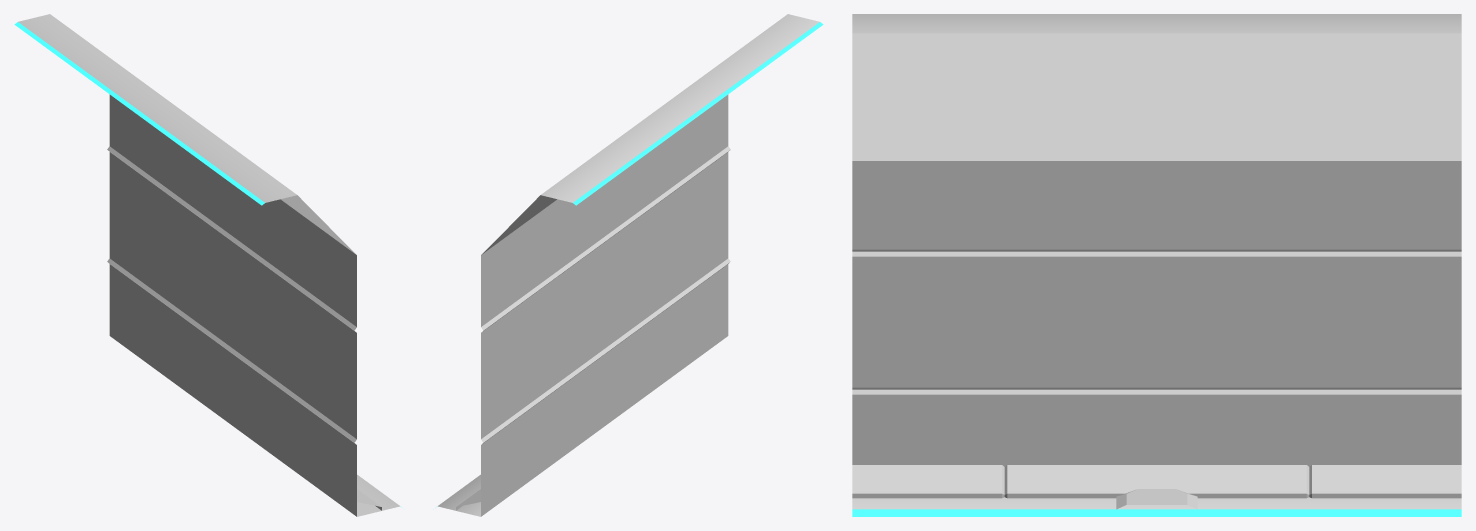
The model's file is SM_WallTile2.fbx.
3 views of the same model, side by side, from view 1: azimuth 30°, elevation 25°; view 2: azimuth 150°, elevation 25°; view 3: azimuth 270°, elevation 25° (orthographic). The views are drawn at different scales.
Visible parts, largest first — view 1: Plane.151; view 2: Plane.151; view 3: Plane.151.
Part boxes in pixels (box(x1,y1,x2,y2)): Plane.151: box(14, 14, 400, 516); Plane.151: box(437, 14, 823, 516); Plane.151: box(852, 14, 1461, 516).
Bounding box in the file's own units: 2 × 6 × 4.56.
